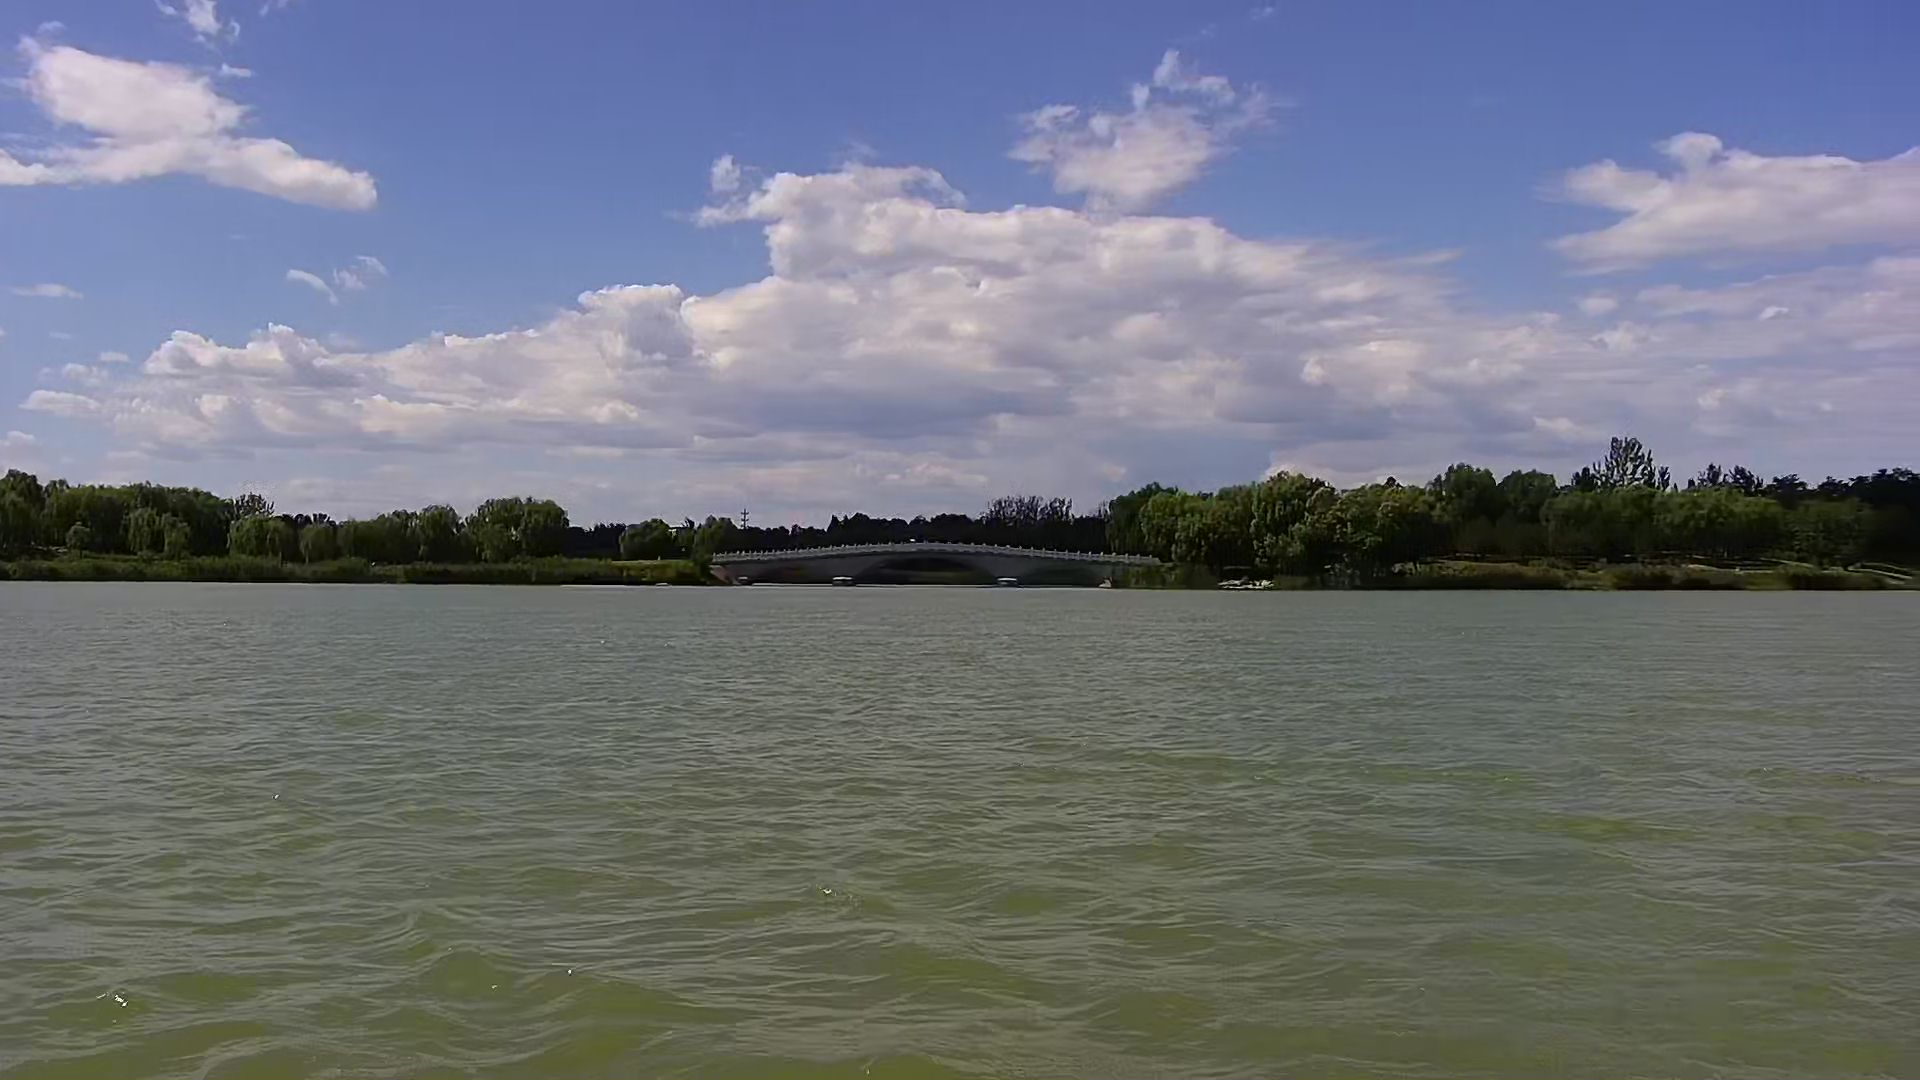bridge: (713, 539, 1163, 592)
